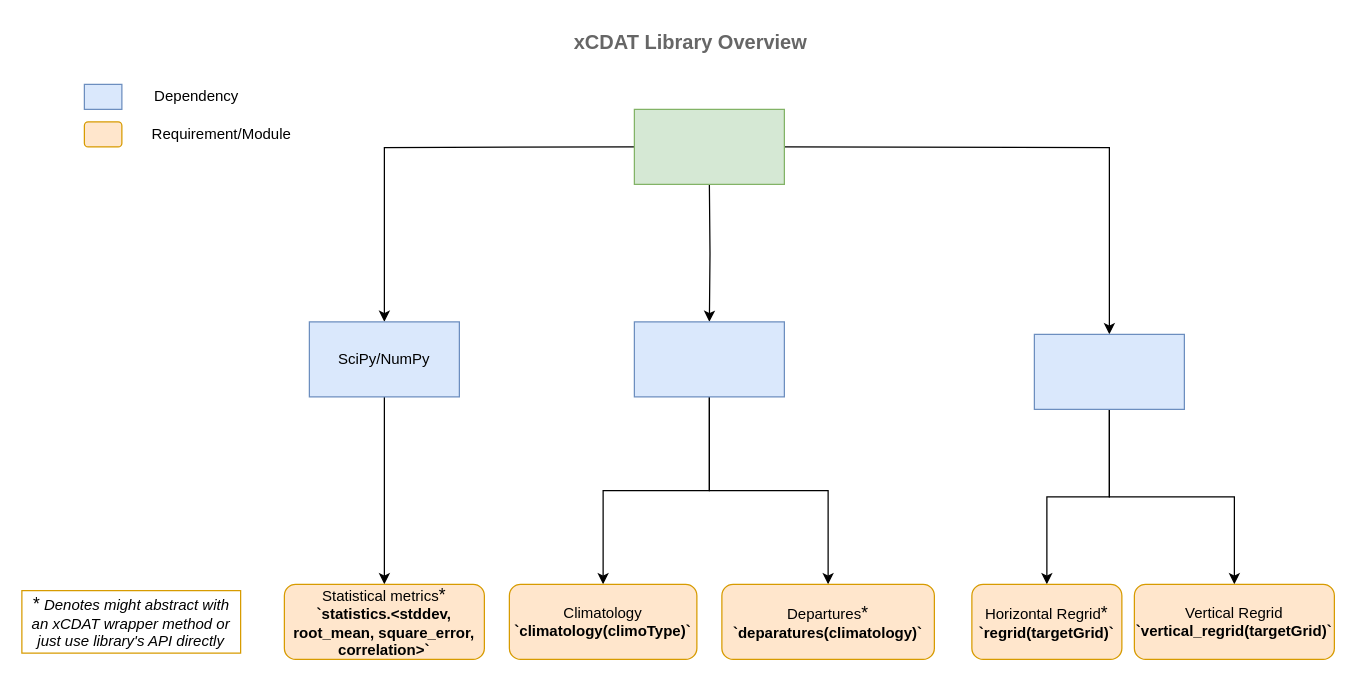
Image size: 1356x681. Some labels were removed from this diagram. Here are the shapes that lost their labels. From the top down, the centre of each, then its label:
At pixel 708 146: "xCDAT".
At pixel 708 359: "xarray".
At pixel 1108 371: "TBD Regridding library (SciPY, xESMF)".
